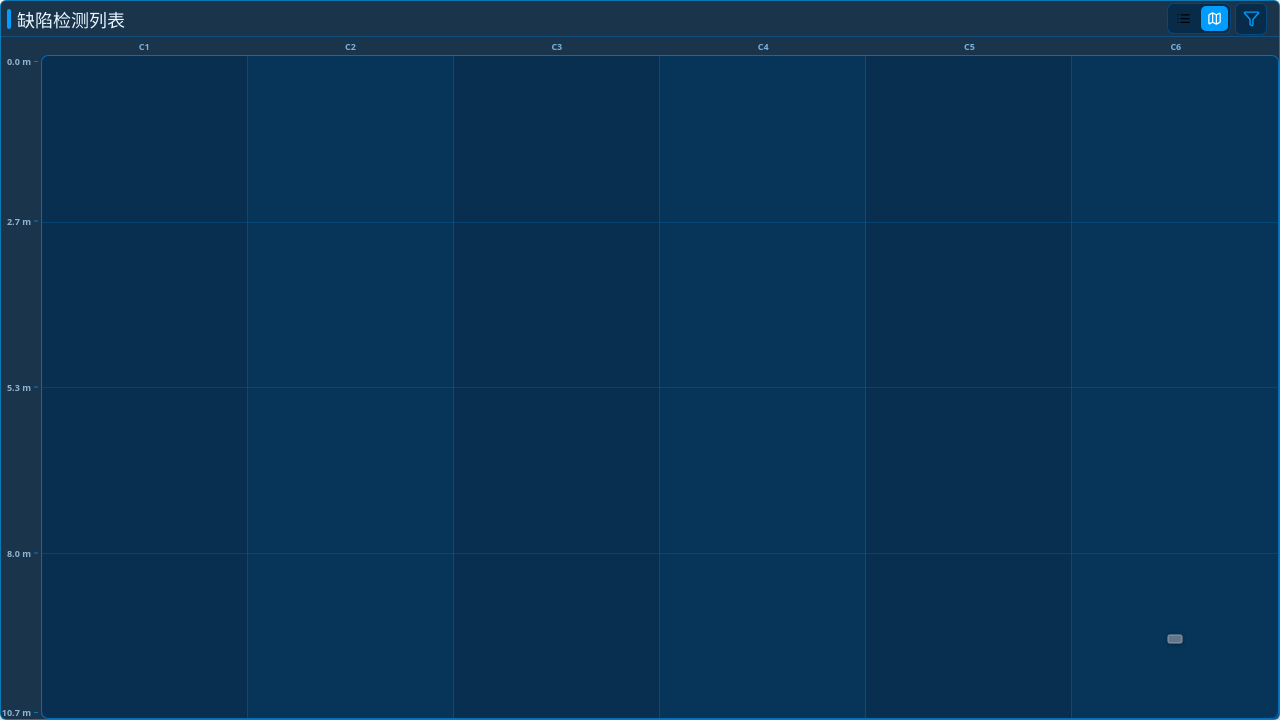
Test: DefectDetectionList algorithm defects › labels an unclassified radial anomaly as a review candidate
Click the button titled "列表" at point(1184, 18), box [1170, 6, 1197, 31]
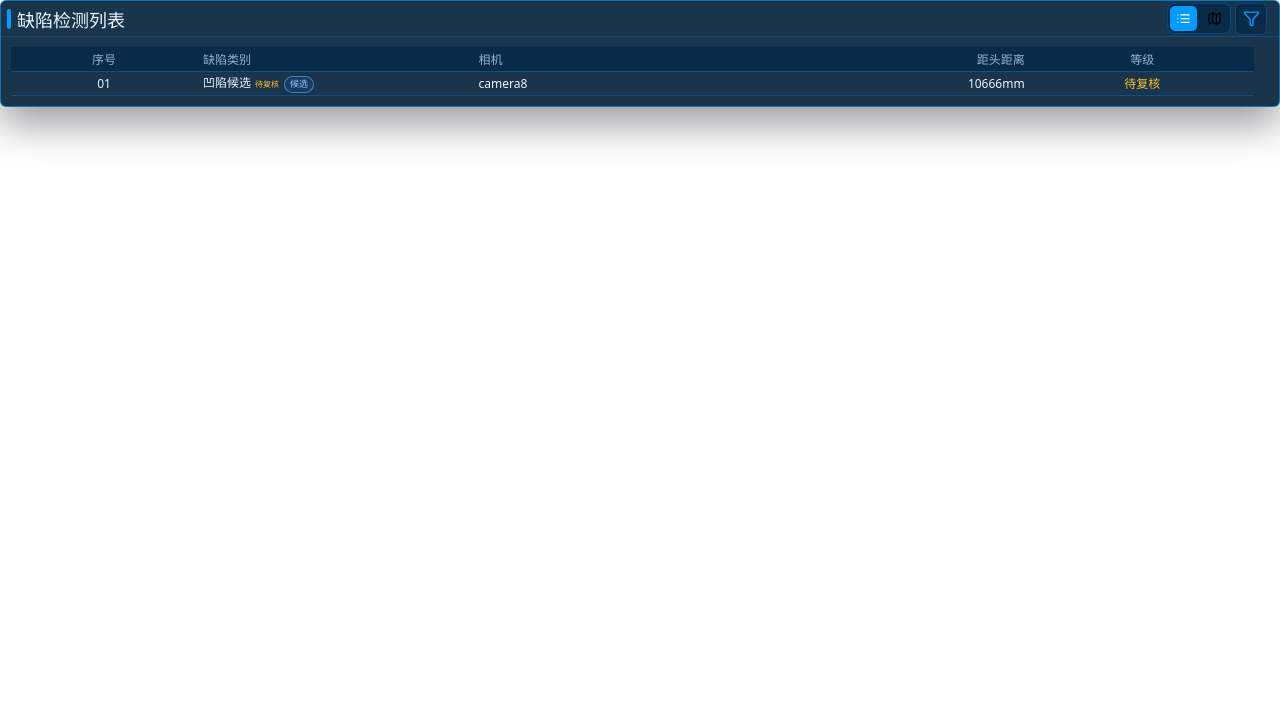
Expected: the text "凹陷候选" is shown, [203, 74, 251, 92]
Expected: the text "候选" is shown, [284, 76, 314, 92]
